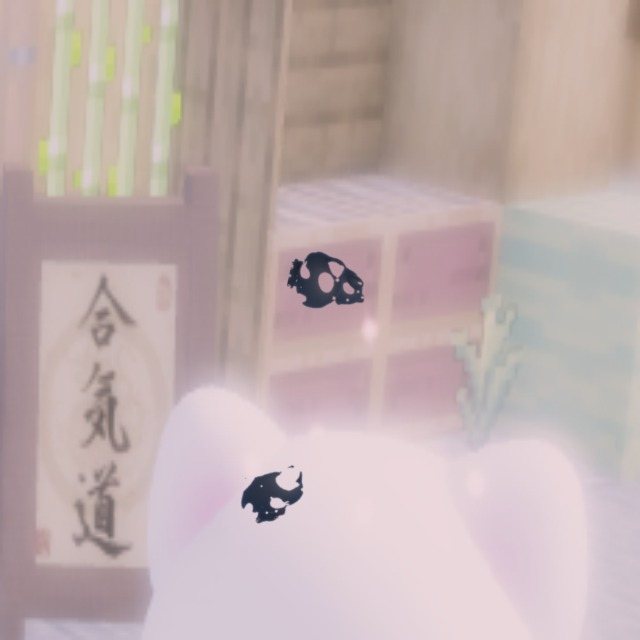urso_preto: (220, 448, 326, 540), (282, 244, 378, 325)
